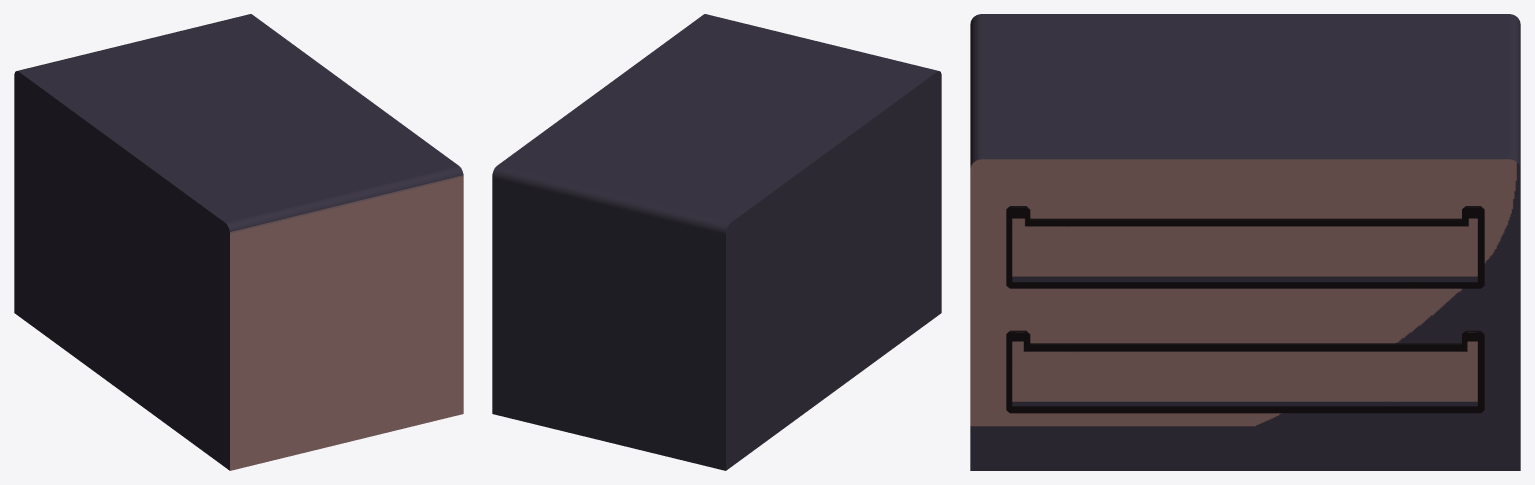
Rendered from small desk.fbx.
3 renders of one model, left to right at view 1: azimuth 30°, elevation 25°; view 2: azimuth 150°, elevation 25°; view 3: azimuth 270°, elevation 25°, orthographic. The views are drawn at different scales.
Visible parts, largest first — view 1: small desk; view 2: small desk; view 3: small desk, smDesk shelves.
Boxes of the visible parts, x1,y1,x2,y2 form: small desk: (14, 14, 463, 470); small desk: (492, 14, 941, 470); small desk: (970, 14, 1520, 470); smDesk shelves: (1006, 206, 1484, 413).
Size of the model in its own units: 101 by 100 by 160.
2 materials, 2 textured.
